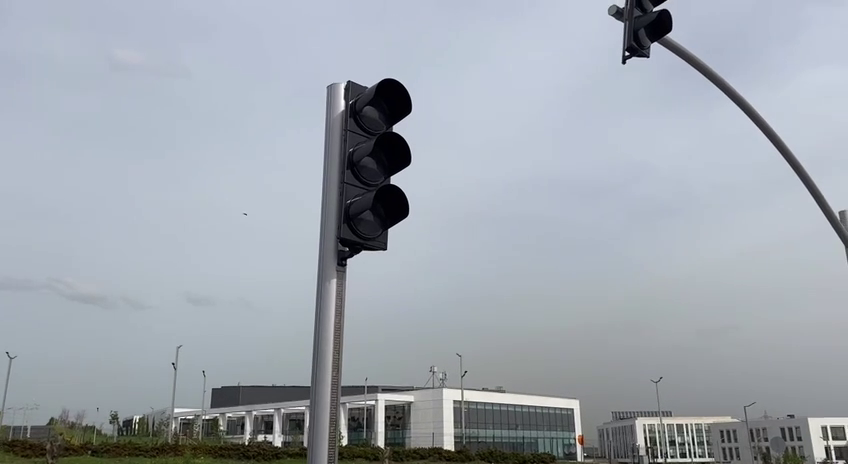trafficLight: (322, 75, 417, 260), (617, 1, 676, 66)
